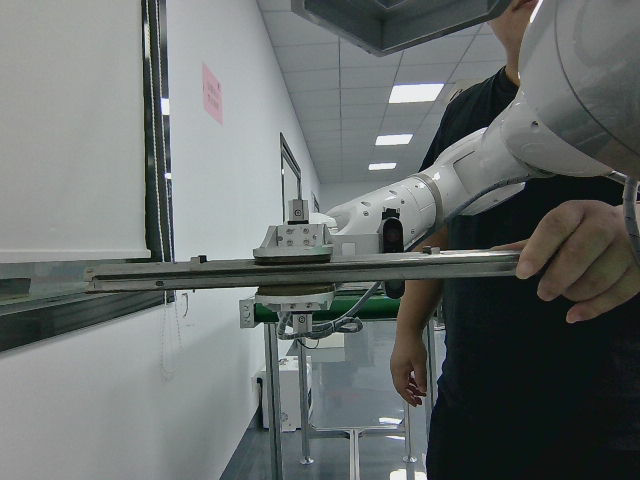up: (84, 245, 518, 292)
